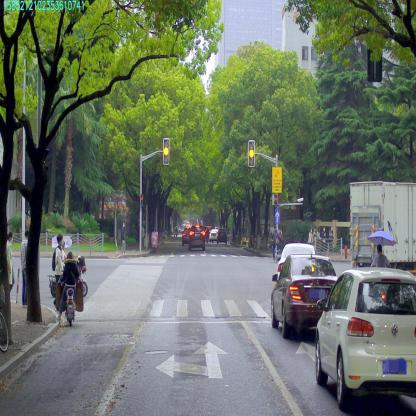traffic-light: (248, 140, 254, 166), (163, 138, 169, 164)
